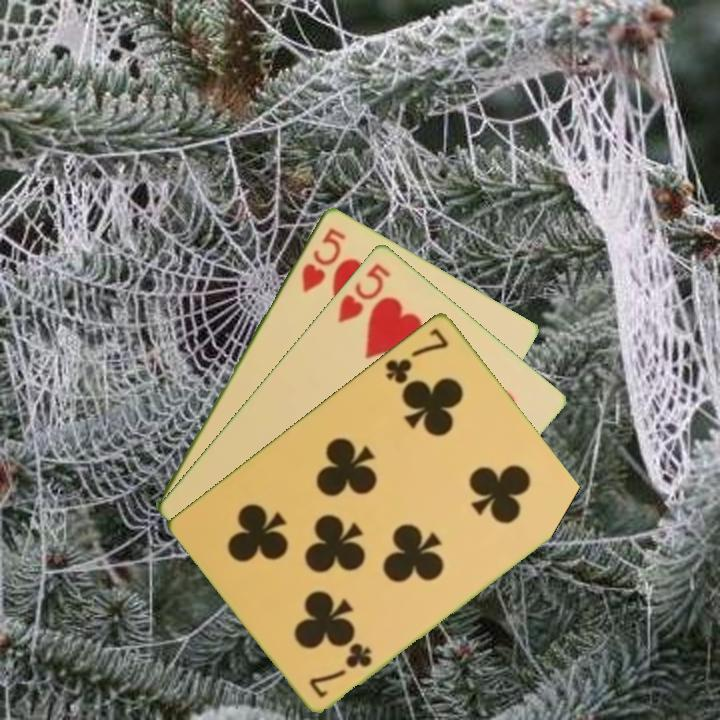5h: (333, 259, 394, 325), (298, 223, 349, 295)
7c: (305, 638, 376, 701), (381, 324, 452, 386)
